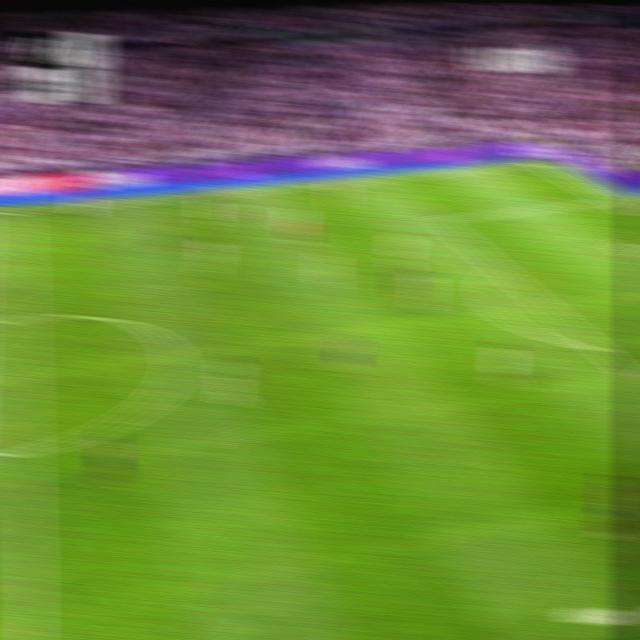bigarea_top_inner: (430, 211, 451, 228)
bigarea_top_outter: (594, 191, 616, 205)
bottom_arc_area_intersection: (585, 336, 610, 357)
corner: (526, 157, 548, 169)
halfcircle_bottom: (14, 433, 42, 465)
halfcircle_top: (11, 304, 37, 330)
midline_top_intersection: (10, 203, 31, 218)
smallarea_top_inner: (610, 239, 630, 254)
top_arc_area_intersection: (490, 260, 512, 276)
